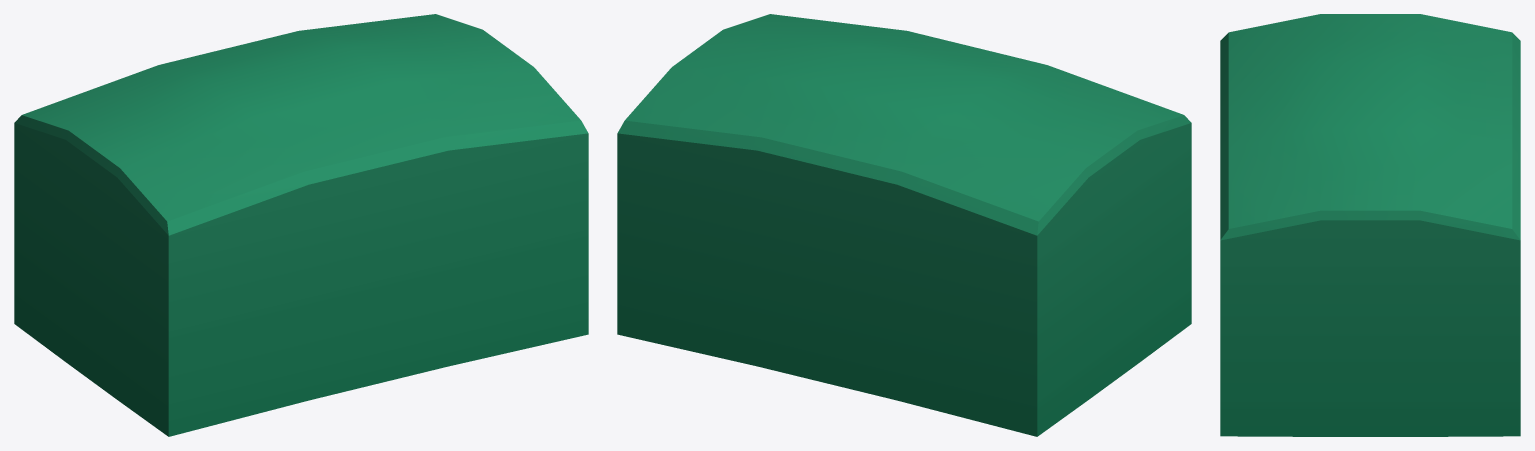
Rendered from Bush3.fbx.
3 views of the same model, side by side, from view 1: azimuth 30°, elevation 25°; view 2: azimuth 150°, elevation 25°; view 3: azimuth 270°, elevation 25° (orthographic). The views are drawn at different scales.
Visible parts, largest first — view 1: Cube.003; view 2: Cube.003; view 3: Cube.003.
Boxes of the visible parts, left/top/right/bottom form: Cube.003: left=14, top=14, right=588, bottom=436; Cube.003: left=617, top=14, right=1191, bottom=436; Cube.003: left=1220, top=14, right=1520, bottom=436.
Size of the model in its own units: 153 by 86.34 by 97.58.
